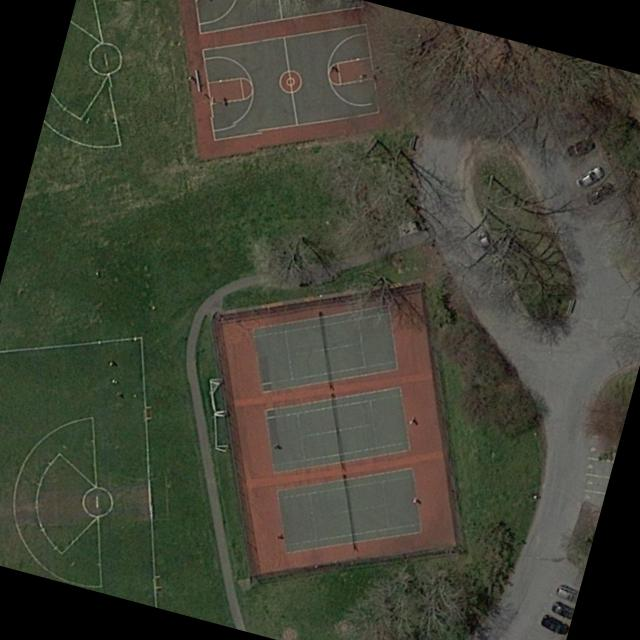small-vehicle: (582, 180, 616, 208), (572, 162, 605, 190), (472, 227, 498, 256), (558, 112, 588, 137), (563, 136, 594, 158), (539, 612, 567, 636)
